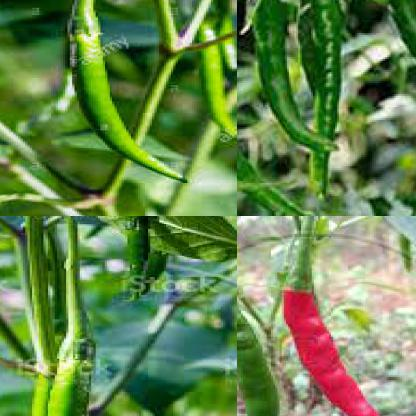Green Chilli: (62, 13, 190, 188), (237, 16, 316, 215), (242, 0, 341, 158), (0, 333, 119, 415), (294, 0, 343, 197), (237, 248, 284, 415), (194, 23, 236, 140), (116, 216, 158, 297), (374, 0, 415, 76), (13, 358, 53, 415), (218, 0, 236, 71)
